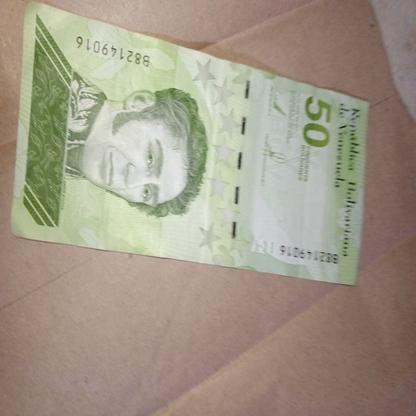fifty-front-vef: (8, 2, 368, 286)
